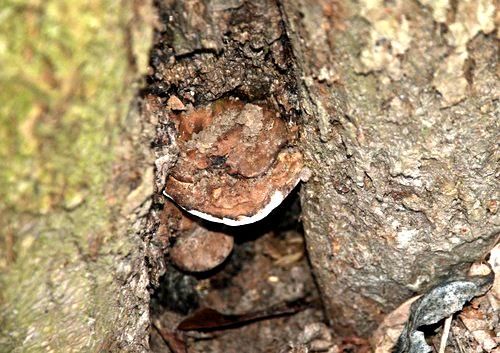Ganoderma - Fruit Body: (159, 93, 304, 228)
